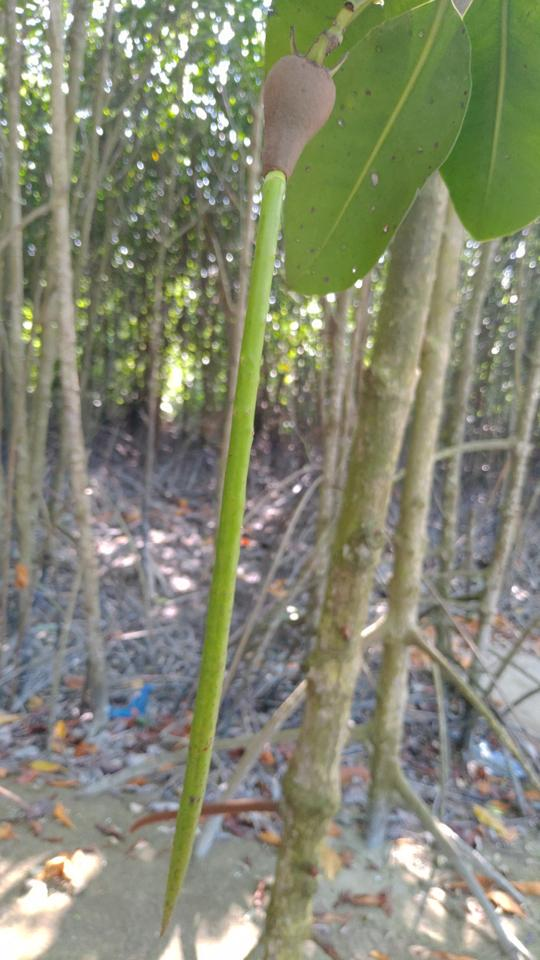setengah matang: (150, 21, 359, 941)
